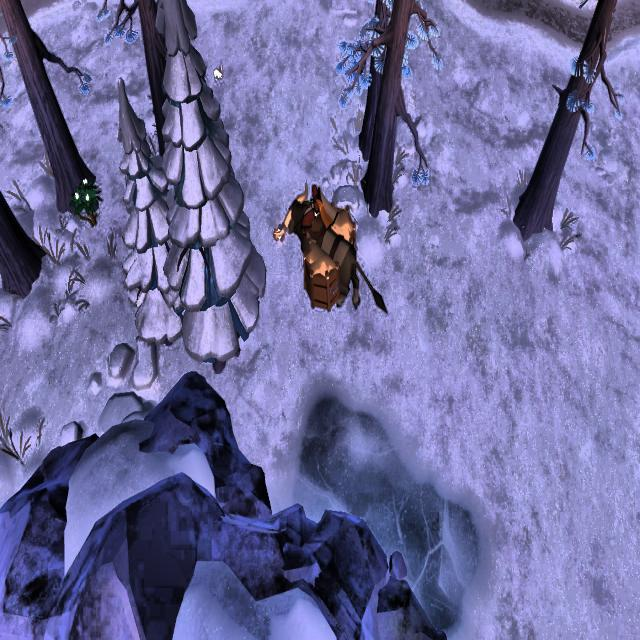fiber_t3: (69, 174, 104, 232)
